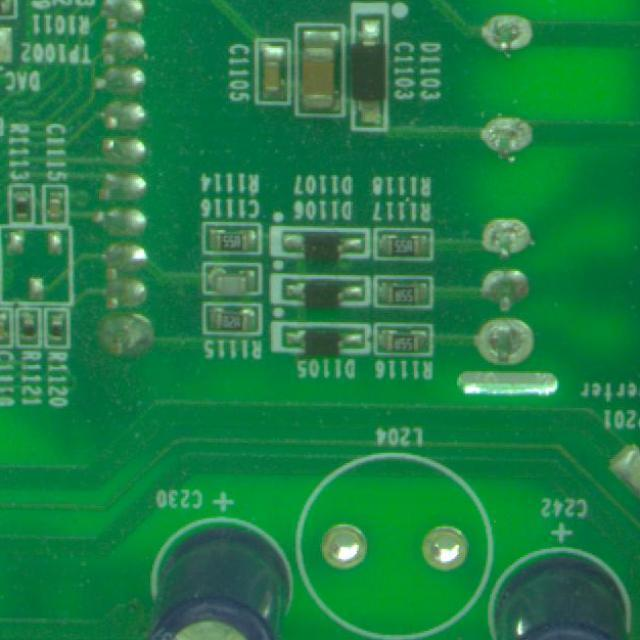Insufficient solder: (482, 11, 554, 89), (423, 514, 484, 583), (472, 116, 541, 176), (472, 321, 560, 368), (476, 208, 542, 264), (310, 516, 372, 562)
